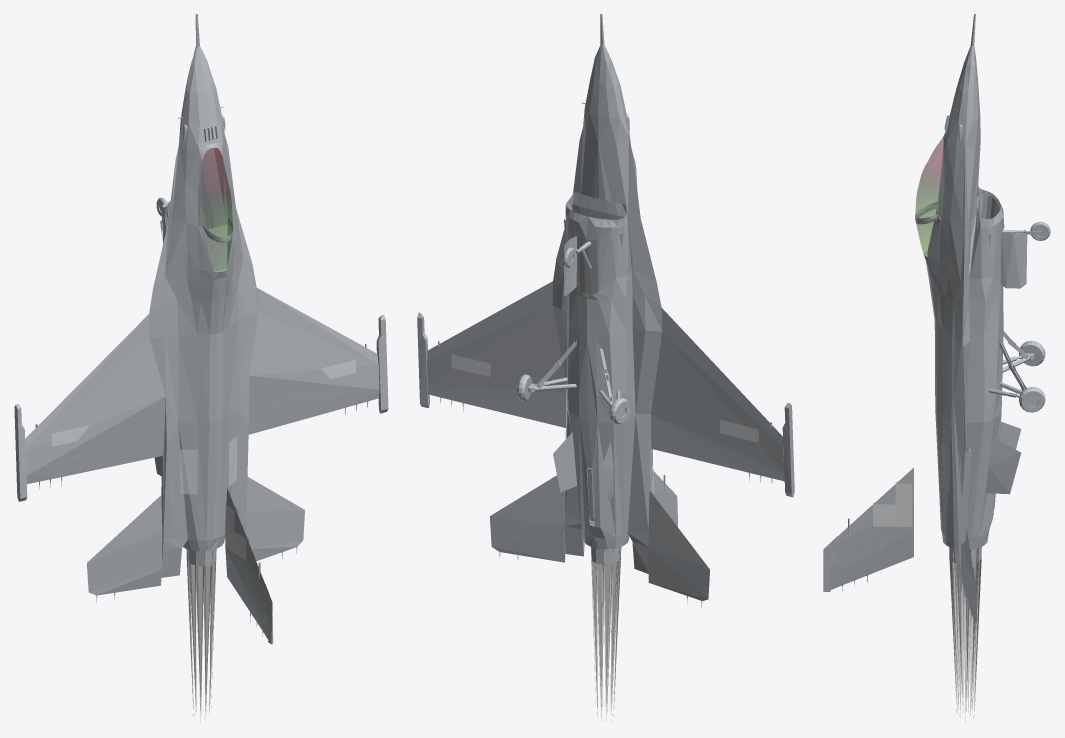
3 views of the same model, side by side, from view 1: azimuth 30°, elevation 25°; view 2: azimuth 150°, elevation 25°; view 3: azimuth 270°, elevation 25° (orthographic).
Visible parts, largest first — view 1: f16; view 2: f16; view 3: f16.
Boxes of the visible parts, <box> form: f16: <box>14,14,388,715</box>; f16: <box>417,14,794,716</box>; f16: <box>823,14,1050,718</box>.
Bounding box in the file's own units: 8.26 × 15.06 × 4.4.
Materials: 4 (4 with a texture image).
